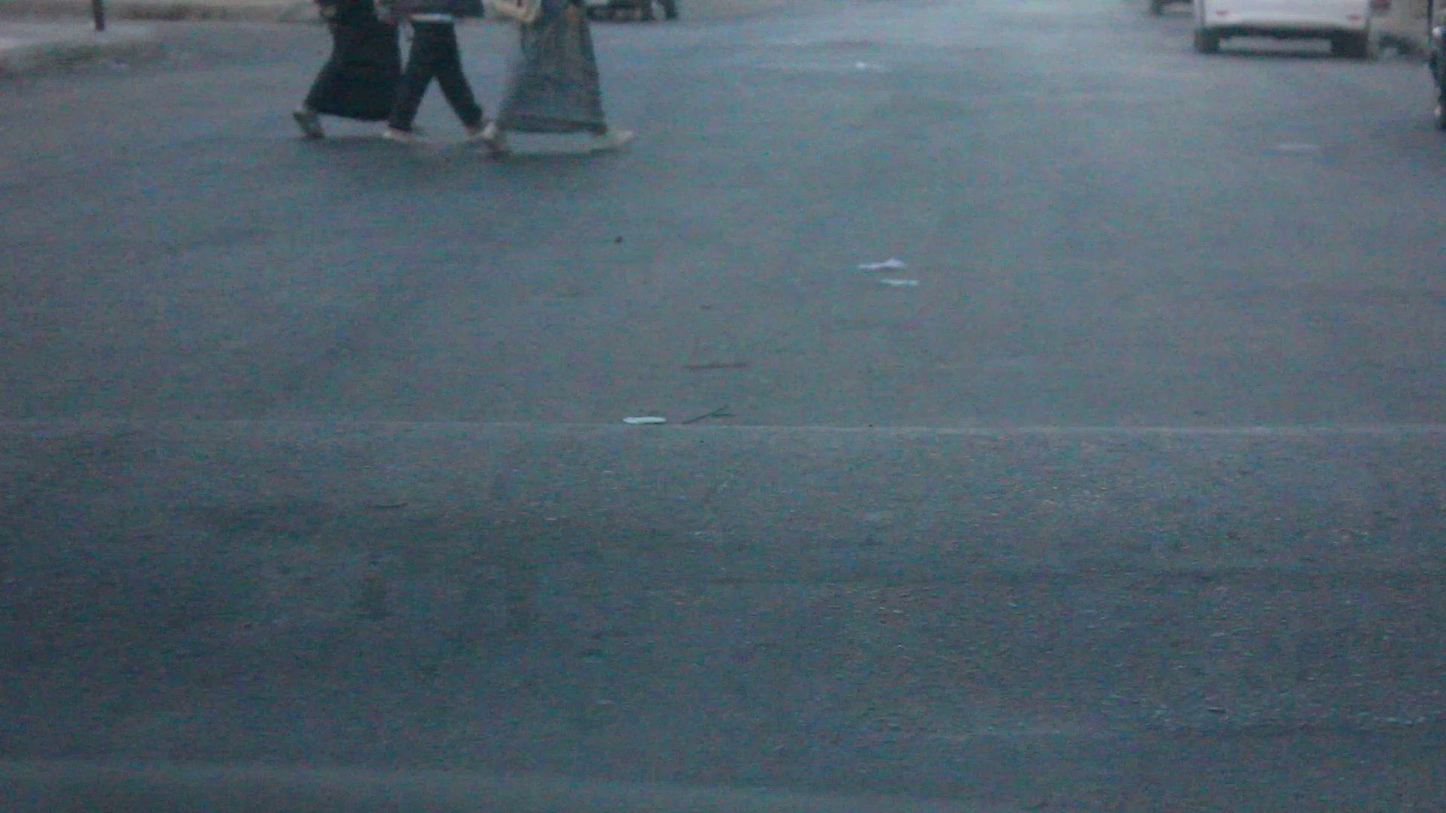Bump: (0, 417, 1445, 748)
